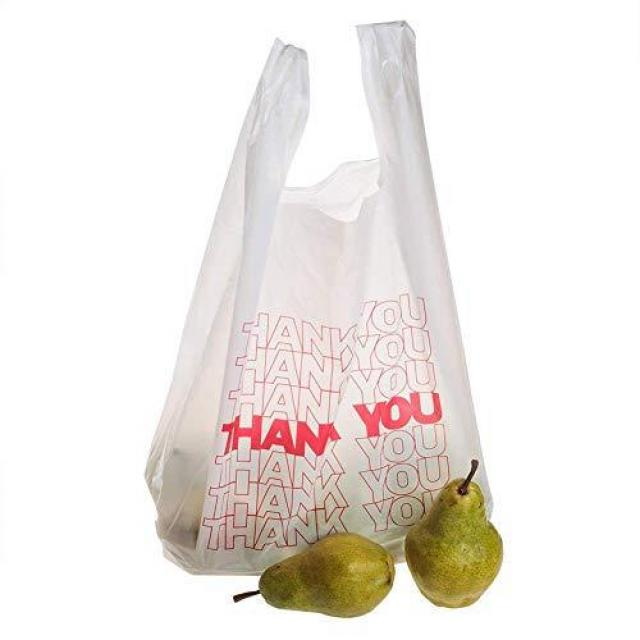plastic_bag: (143, 18, 532, 621)
